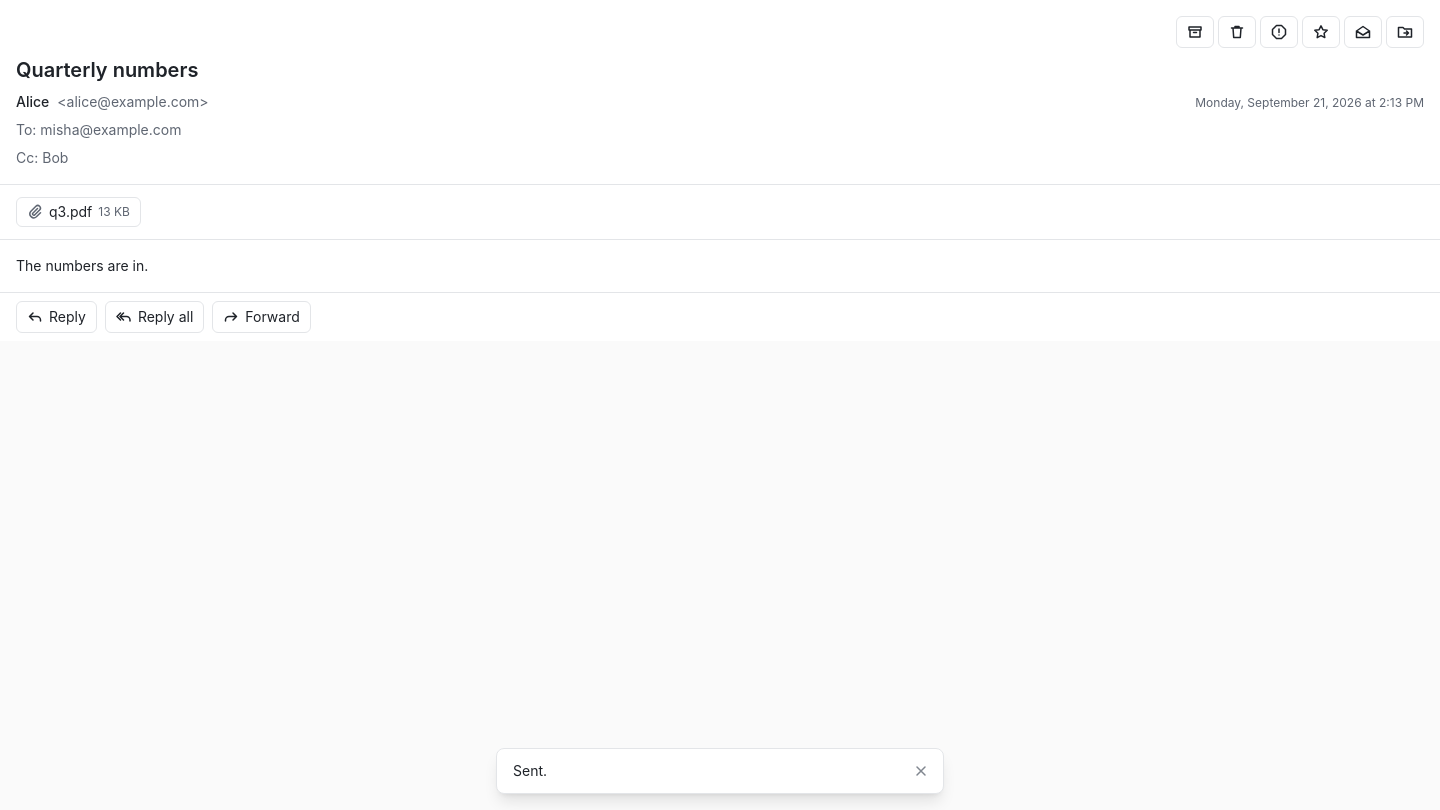
it: the reading pane › forwards with its attachments, and keeps the window when the server says no
Expected: the button "Forward" is shown, [212, 301, 311, 333]
Press f
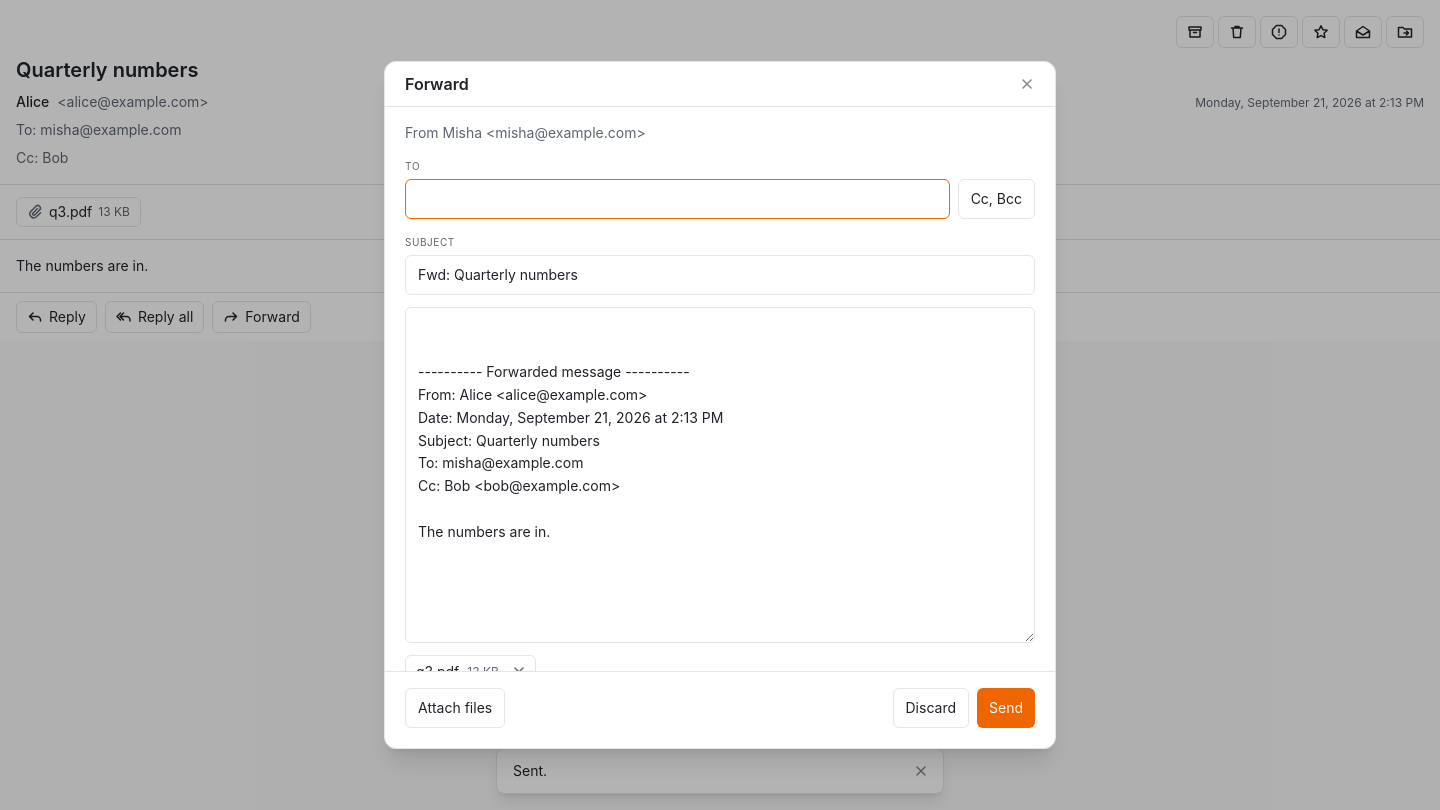
Expected: the heading "Forward" is shown, [405, 72, 469, 96]
Type "nobody@example.com" into the field labelled "To" at x=677, y=199, box [405, 179, 950, 219]
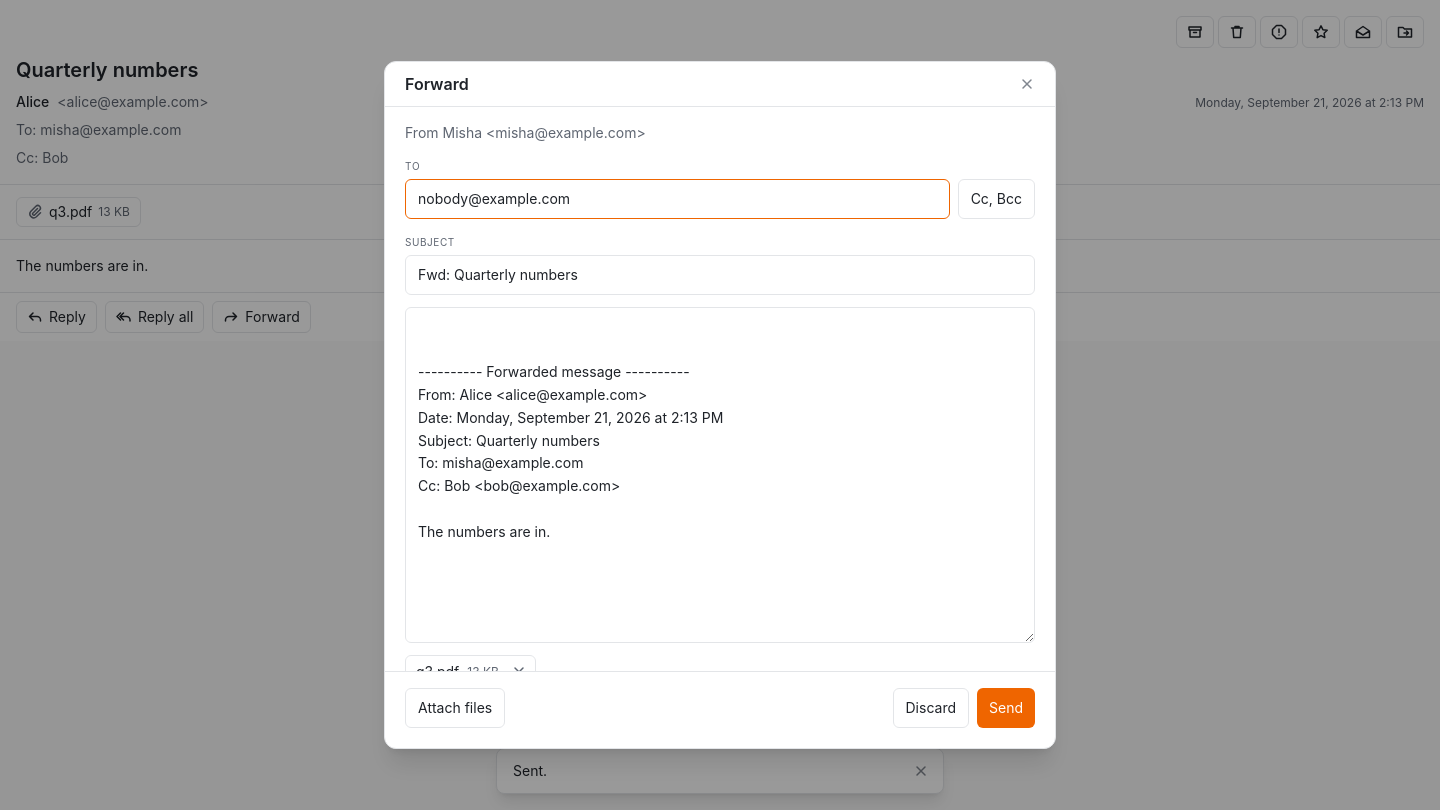
Click the button "Send" at x=1006, y=708, box [977, 688, 1035, 728]
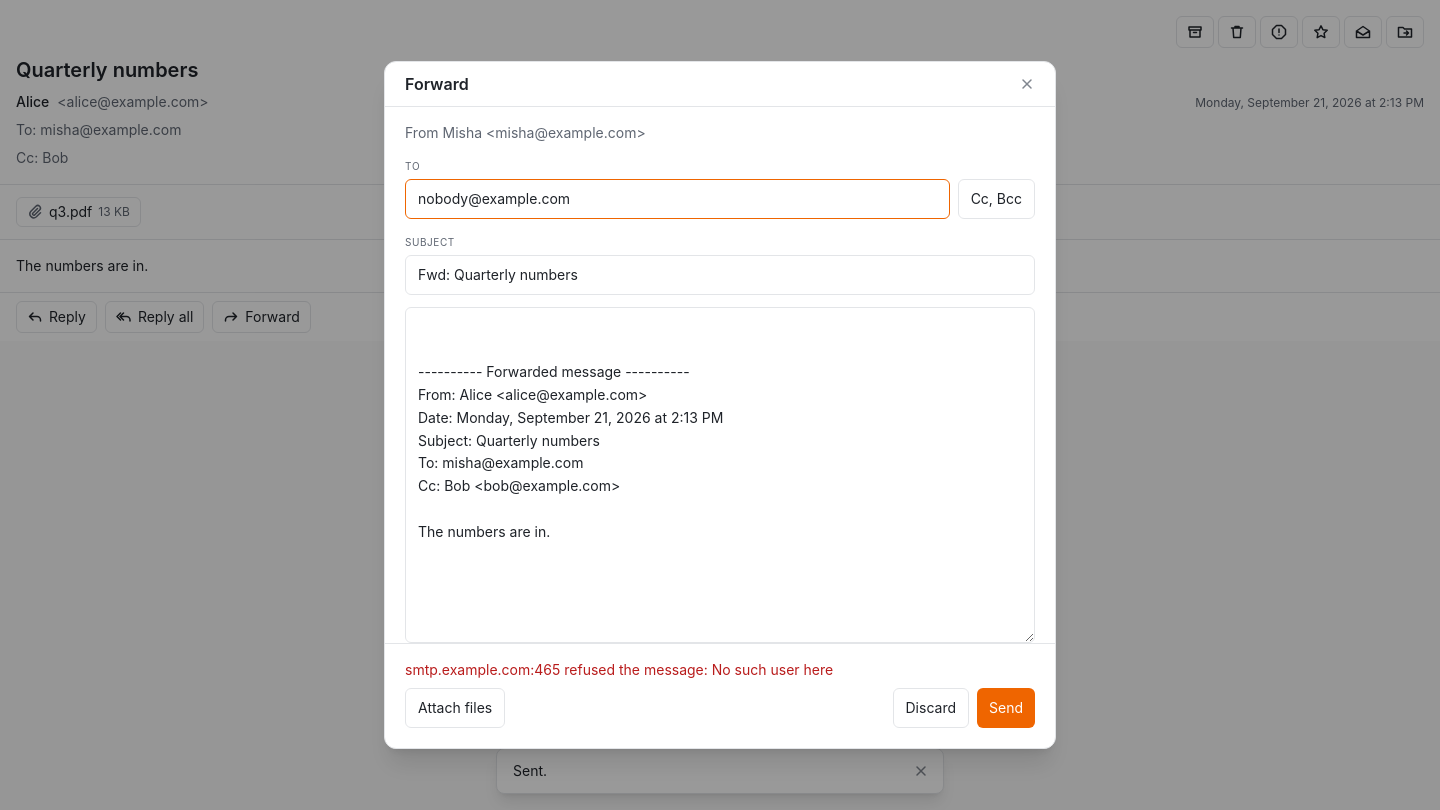
Expected: the text "smtp.example.com:465 refused the message: No such user here" is shown, [405, 661, 833, 678]
